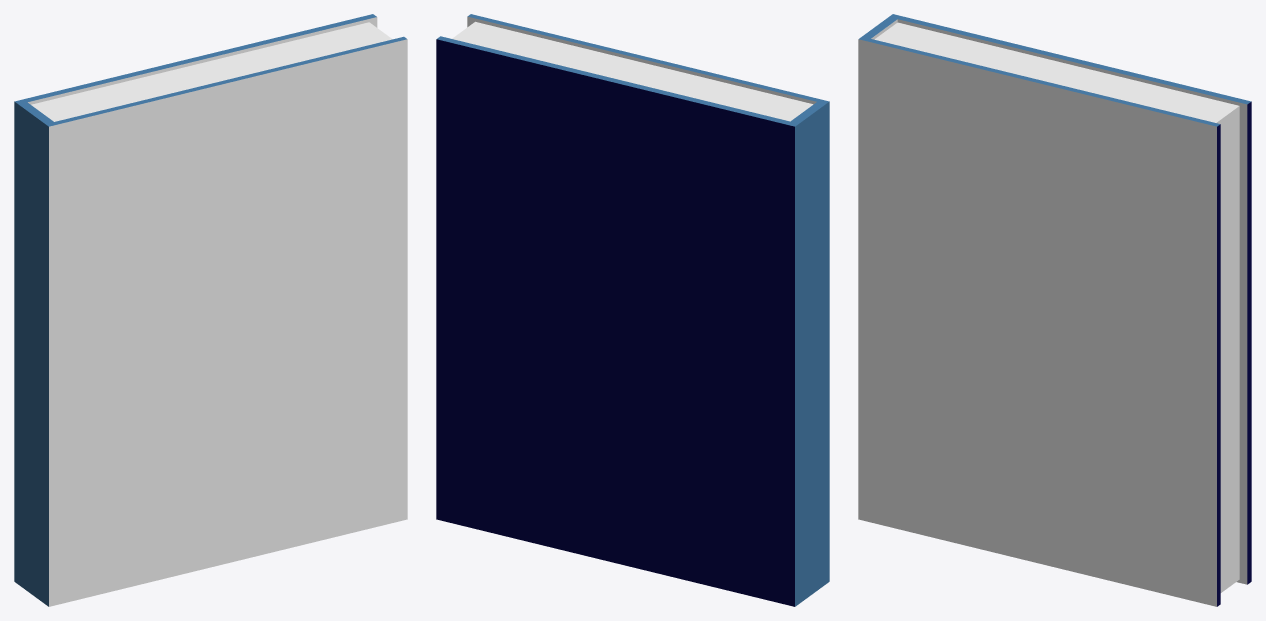
3 renders of one model, left to right at view 1: azimuth 30°, elevation 25°; view 2: azimuth 150°, elevation 25°; view 3: azimuth 330°, elevation 25°, orthographic.
Parts seen in each view (by area): view 1: book; view 2: book; view 3: book.
Part boxes in pixels (x1=…): book: x1=14, y1=14, x2=407, y2=606; book: x1=436, y1=14, x2=829, y2=606; book: x1=858, y1=14, x2=1251, y2=606.
Bounding box in the file's own units: 252 × 323 × 41.99.
